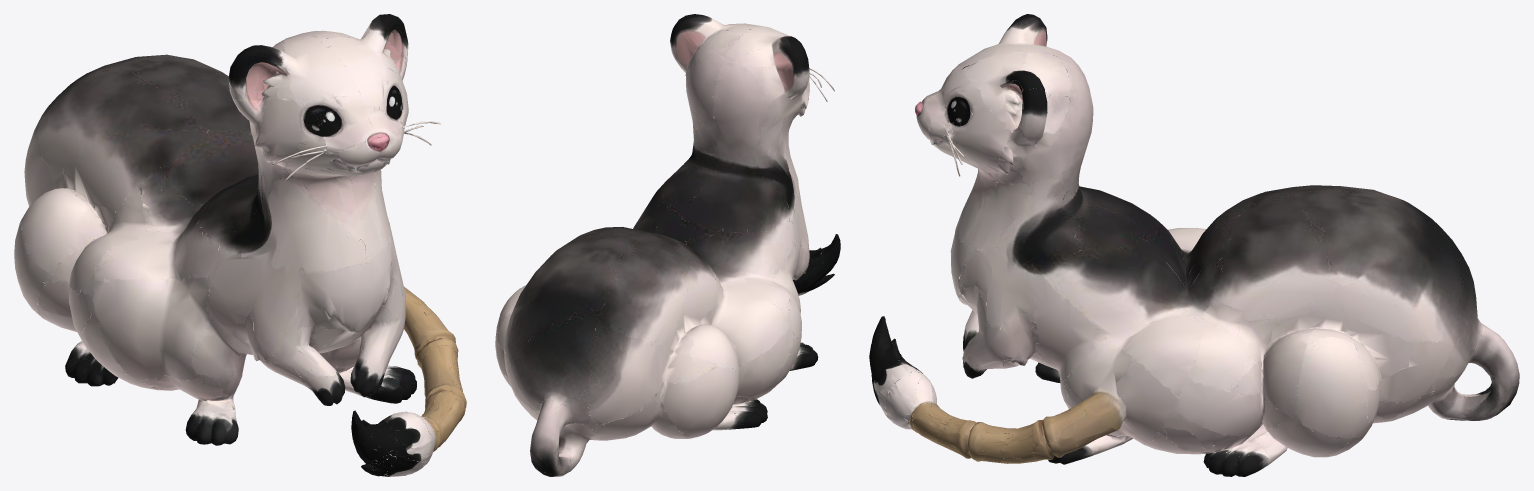
3 views of the same model, side by side, from view 1: azimuth 30°, elevation 25°; view 2: azimuth 150°, elevation 25°; view 3: azimuth 270°, elevation 25° (orthographic). The views are drawn at different scales.
Parts seen in each view (by area): view 1: Mesh_0; view 2: Mesh_0; view 3: Mesh_0.
Part boxes in pixels (<box>): Mesh_0: <box>14,14,466,476</box>; Mesh_0: <box>495,14,840,476</box>; Mesh_0: <box>869,14,1519,476</box>.
Bounding box in the file's own units: 0.9445 × 1.2 × 1.9.
Materials: 1 (1 with a texture image).
